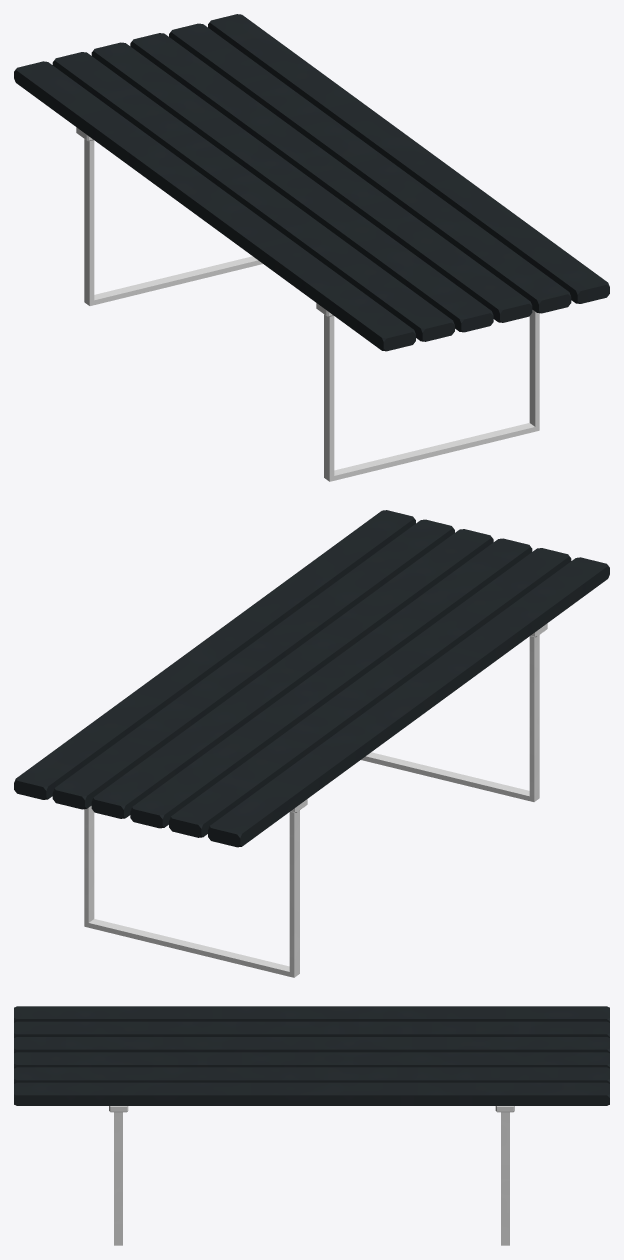
File: Table_04_04.fbx
The picture shows the model from 3 angles, top to bottom: view 1: azimuth 30°, elevation 25°; view 2: azimuth 150°, elevation 25°; view 3: azimuth 270°, elevation 25°; orthographic projection. The views are drawn at different scales.
Parts seen in each view (by area): view 1: Table_04_04; view 2: Table_04_04; view 3: Table_04_04.
Boxes of the visible parts, <box> form: Table_04_04: <box>14,14,609,481</box>; Table_04_04: <box>14,510,609,977</box>; Table_04_04: <box>14,1006,609,1245</box>.
Bounding box in the file's own units: 0.8031 × 0.6451 × 2.27.
